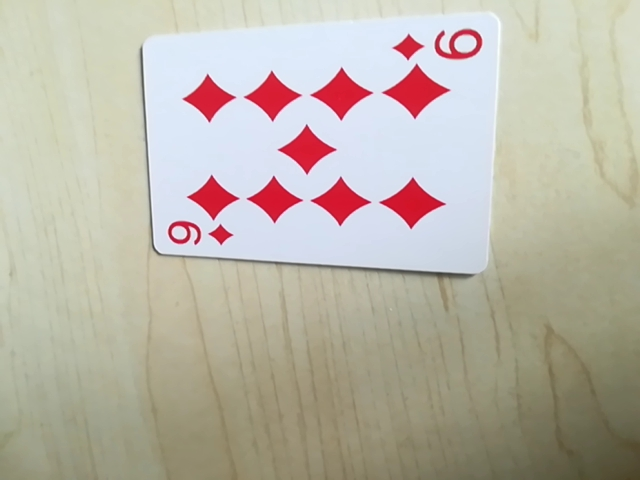fk 9: (393, 19, 488, 70), (161, 218, 239, 256)
